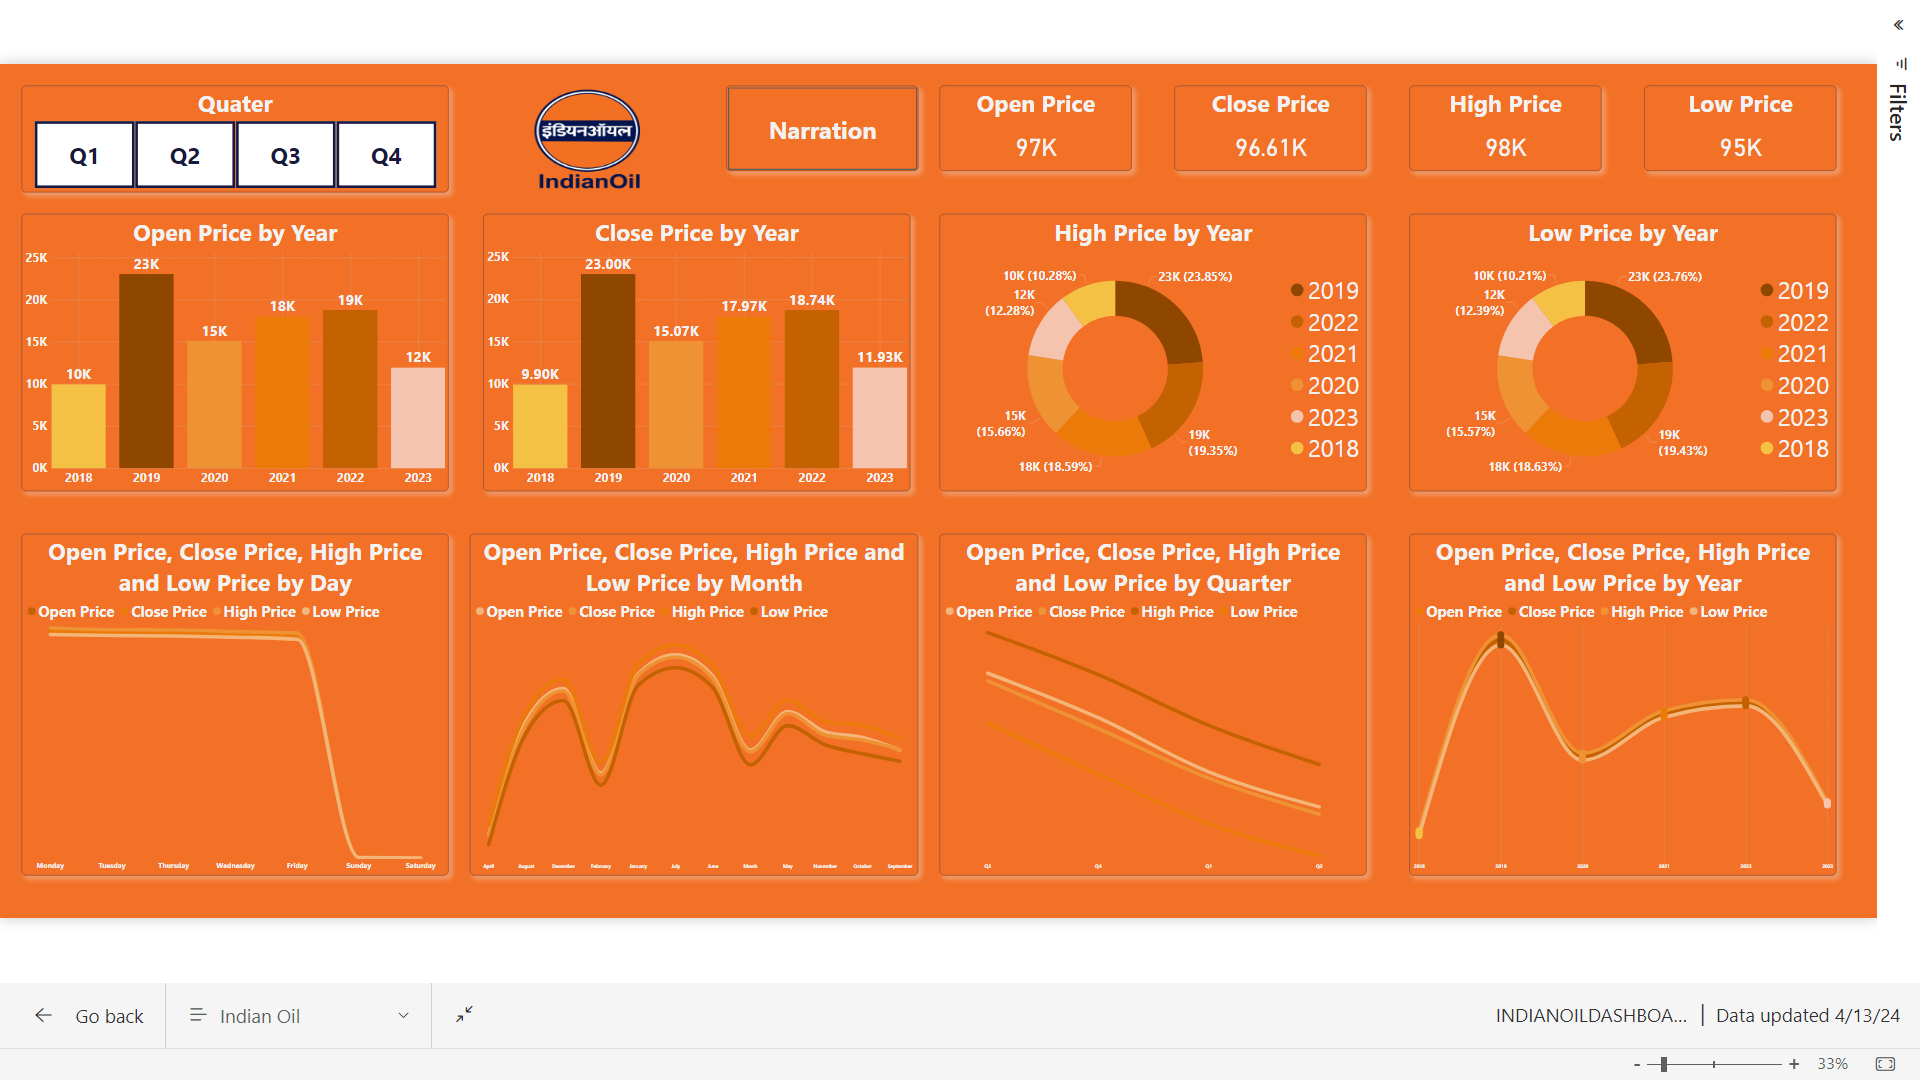

What the dashboard file says about the page in this screenshot:
{"tool":"powerbi","page":{"name":"Indian Oil ","canvas":[4220,1920],"ordinal":0},"visuals":[{"type":"slicer","title":"Quater","fields":{"Values":["Indian Oil Data.Quarter"]},"box":[48,48,960,240],"z":0},{"type":"card","title":"Open Price","fields":{"Values":["Sum(Indian Oil Data.Open)"]},"box":[2112,48,432,192],"z":1000},{"type":"card","title":"Close Price","fields":{"Values":["Sum(Indian Oil Data.Close)"]},"box":[2640,48,432,192],"z":2000},{"type":"card","title":"High Price","fields":{"Values":["Sum(Indian Oil Data.High)"]},"box":[3168,48,432,192],"z":3000},{"type":"card","title":"Low Price","fields":{"Values":["Sum(Indian Oil Data.Low)"]},"box":[3696,48,432,192],"z":4000},{"type":"image","box":[1056,48,528,240],"z":5000},{"type":"donutChart","fields":{"Y":["Sum(Indian Oil Data.High)"],"Category":["Indian Oil Data.Year"]},"box":[2112,336,960,624],"z":6000},{"type":"donutChart","fields":{"Category":["Indian Oil Data.Year"],"Y":["Sum(Indian Oil Data.Low)"]},"box":[3168,336,960,624],"z":7000},{"type":"clusteredColumnChart","fields":{"Category":["Indian Oil Data.Year"],"Y":["Sum(Indian Oil Data.Open)"]},"box":[48,336,960,624],"z":8000},{"type":"clusteredColumnChart","fields":{"Category":["Indian Oil Data.Year"],"Y":["Sum(Indian Oil Data.Close)"]},"box":[1088,336,960,624],"z":9000},{"type":"lineChart","fields":{"Category":["Indian Oil Data.Day"],"Y":["Sum(Indian Oil Data.Open)","Sum(Indian Oil Data.Close)","Sum(Indian Oil Data.High)","Sum(Indian Oil Data.Low)"]},"box":[48,1056,960,768],"z":10000},{"type":"lineChart","fields":{"Y":["Sum(Indian Oil Data.Open)","Sum(Indian Oil Data.Close)","Sum(Indian Oil Data.High)","Sum(Indian Oil Data.Low)"],"Category":["Indian Oil Data.Month"]},"box":[1056,1056,1008,768],"z":11000},{"type":"lineChart","fields":{"Y":["Sum(Indian Oil Data.Open)","Sum(Indian Oil Data.Close)","Sum(Indian Oil Data.High)","Sum(Indian Oil Data.Low)"],"Category":["Indian Oil Data.Quarter"]},"box":[2112,1056,960,768],"z":12000},{"type":"lineChart","fields":{"Y":["Sum(Indian Oil Data.Open)","Sum(Indian Oil Data.Close)","Sum(Indian Oil Data.High)","Sum(Indian Oil Data.Low)"],"Category":["Indian Oil Data.Year"]},"box":[3168,1056,960,768],"z":13000},{"type":"actionButton","box":[1632,48,432,192],"z":15000}]}

Visuals, with their boxes in screenshot pixels (x1, y1, x2, y2):
"Quater" slicer: box=[0, 58, 366, 174]
"Open Price" card: box=[899, 58, 1107, 151]
"Close Price" card: box=[1153, 58, 1362, 151]
"High Price" card: box=[1408, 58, 1616, 151]
"Low Price" card: box=[1662, 58, 1871, 151]
image: box=[389, 58, 644, 174]
donutChart - Sum(Indian Oil Data.High) x Indian Oil Data.Year: box=[899, 197, 1362, 498]
donutChart - Indian Oil Data.Year x Sum(Indian Oil Data.Low): box=[1408, 197, 1871, 498]
clusteredColumnChart - Indian Oil Data.Year x Sum(Indian Oil Data.Open): box=[0, 197, 366, 498]
clusteredColumnChart - Indian Oil Data.Year x Sum(Indian Oil Data.Close): box=[405, 197, 868, 498]
lineChart - Indian Oil Data.Day x Sum(Indian Oil Data.Open): box=[0, 544, 366, 915]
lineChart - Sum(Indian Oil Data.Open) x Sum(Indian Oil Data.Close): box=[389, 544, 875, 915]
lineChart - Sum(Indian Oil Data.Open) x Sum(Indian Oil Data.Close): box=[899, 544, 1362, 915]
lineChart - Sum(Indian Oil Data.Open) x Sum(Indian Oil Data.Close): box=[1408, 544, 1871, 915]
actionButton: box=[667, 58, 875, 151]
